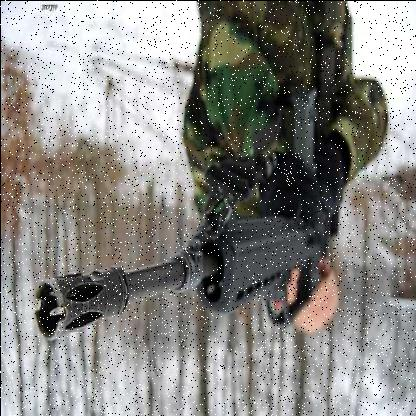rifle: (30, 81, 344, 382)
